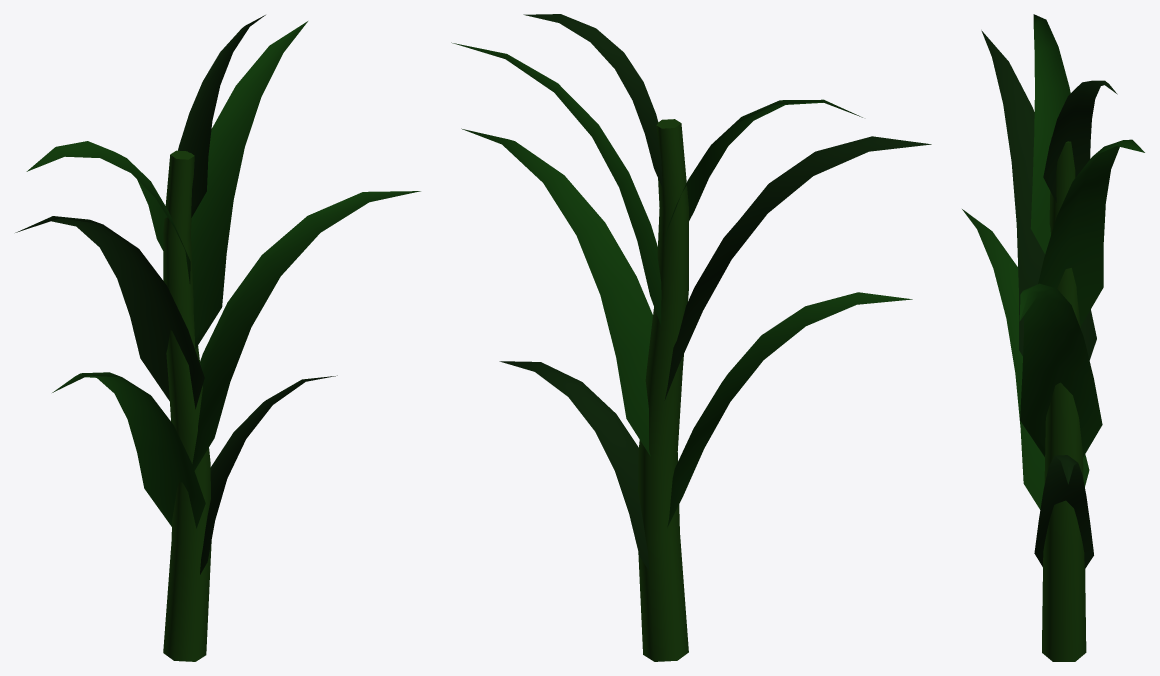
File: Corn_2.obj
3 renders of one model, left to right at view 1: azimuth 30°, elevation 25°; view 2: azimuth 150°, elevation 25°; view 3: azimuth 270°, elevation 25°, orthographic. The views are drawn at different scales.
Parts seen in each view (by area): view 1: Corn_2; view 2: Corn_2; view 3: Corn_2.
Boxes of the visible parts, x1,y1,x2,y2 form: Corn_2: (15, 15, 420, 661); Corn_2: (451, 14, 931, 661); Corn_2: (962, 14, 1144, 661).
Size of the model in its own units: 0.5273 by 0.7039 by 0.1916.
